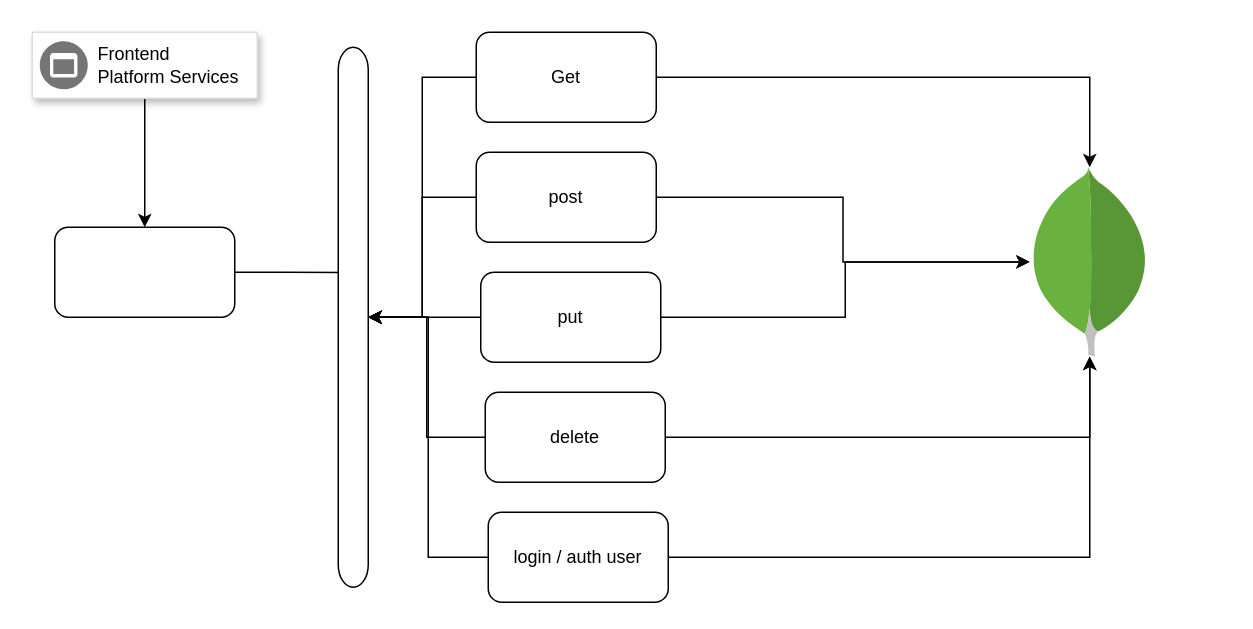
Image size: 1253x629. Some labels were removed from this diagram. Here are the shapes that lost their labels. From the top down, the centre of each, then its label:
At (x=144, y=271): "middleware".
At (x=1089, y=261): "Mongo database".
